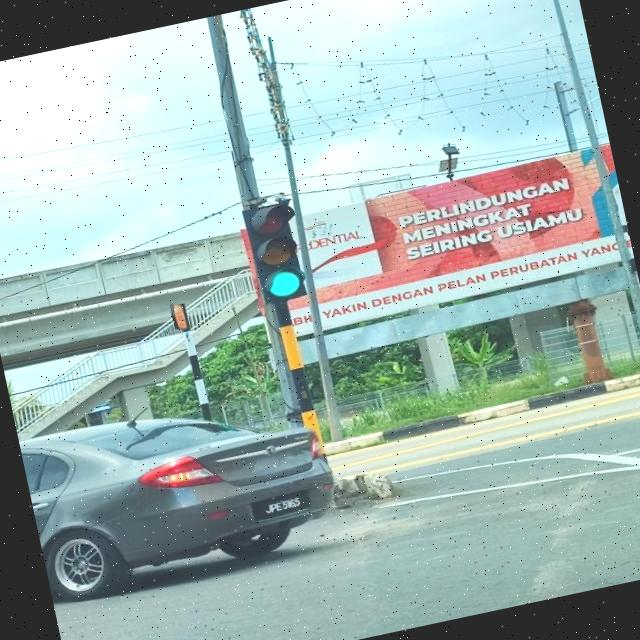green_light: (240, 198, 314, 302)
